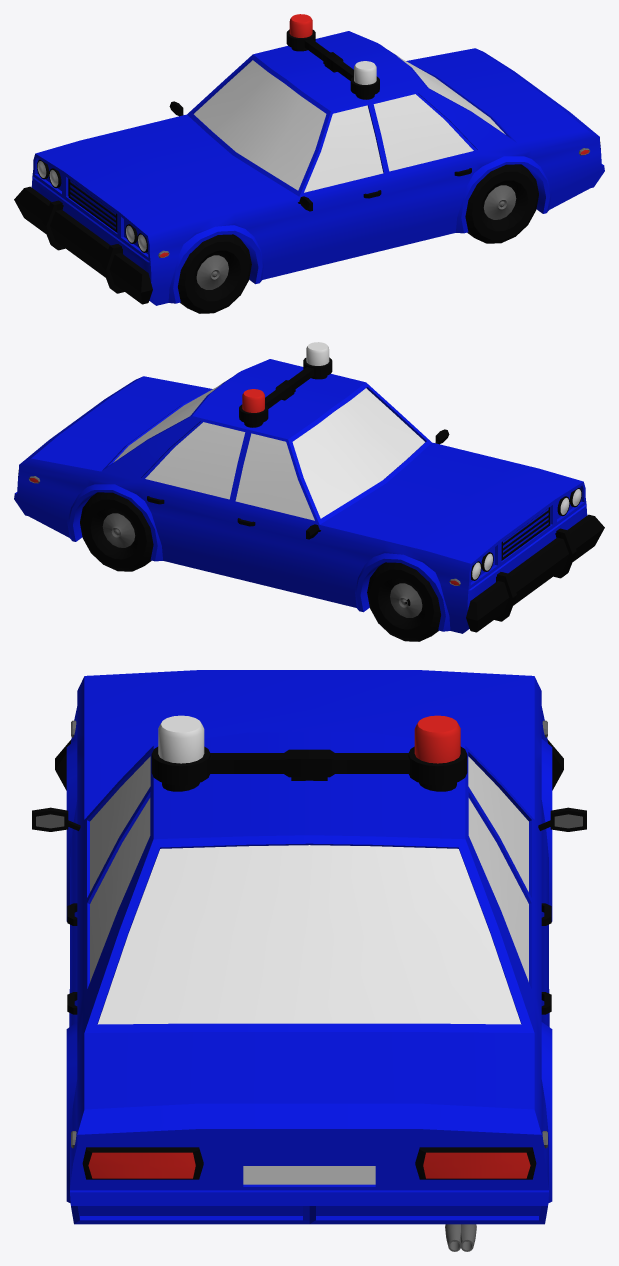
File: PolisArabasi.fbx
3 views of the same model, one above another, from view 1: azimuth 30°, elevation 25°; view 2: azimuth 150°, elevation 25°; view 3: azimuth 270°, elevation 25° (orthographic). The views are drawn at different scales.
Visible parts, largest first — view 1: whell.004; view 2: whell.004; view 3: whell.004.
Boxes of the visible parts, x1,y1,x2,y2 form: whell.004: (14, 14, 604, 313); whell.004: (14, 342, 604, 641); whell.004: (32, 670, 586, 1251).
Size of the model in its own units: 569 by 216 by 290.
